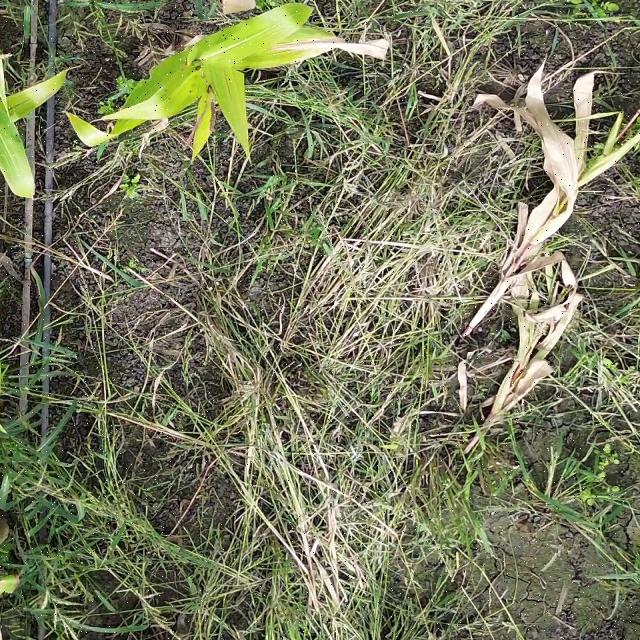northern-leaf-blight: (251, 33, 399, 66)
